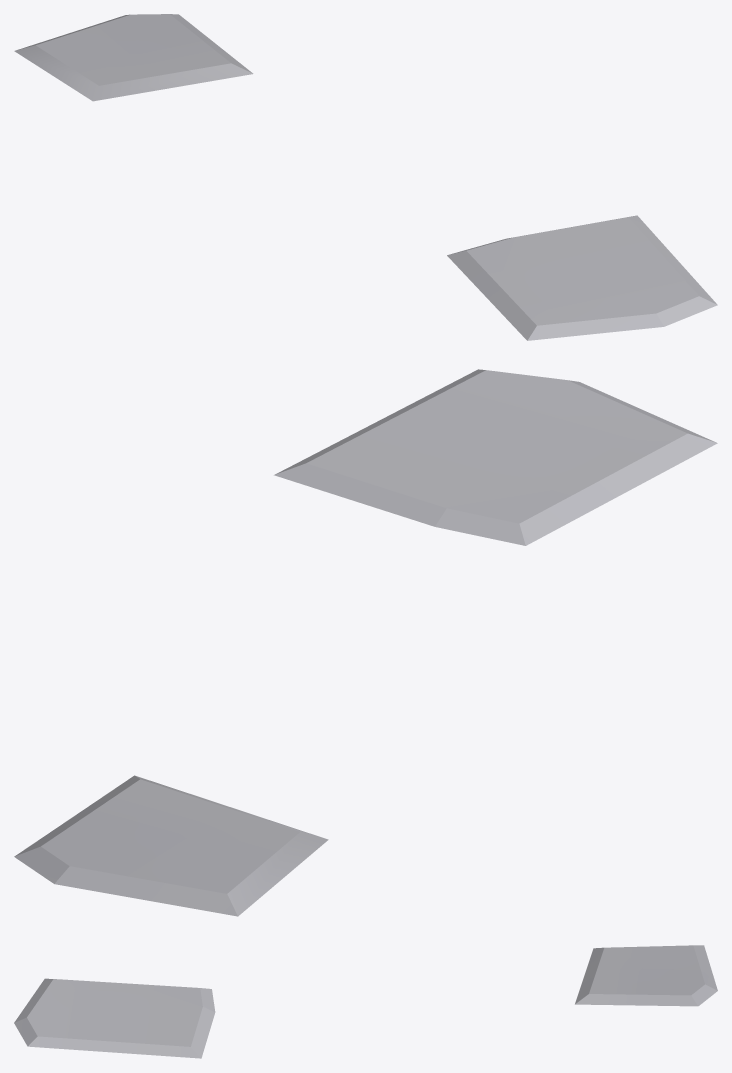
Rendered from stones_pavement.glb.
3 views of the same model, one above another, from view 1: azimuth 30°, elevation 25°; view 2: azimuth 150°, elevation 25°; view 3: azimuth 270°, elevation 25° (orthographic). The views are drawn at different scales.
Visible parts, largest first — view 1: Line148; view 2: Line148; view 3: Line148.
Part boxes in pixels (<box>): Line148: <box>14,14,717,340</box>; Line148: <box>14,369,717,916</box>; Line148: <box>14,945,717,1058</box>.
Size of the model in its own units: 0.8645 by 0.02 by 2.27.
1 material, 1 textured.
